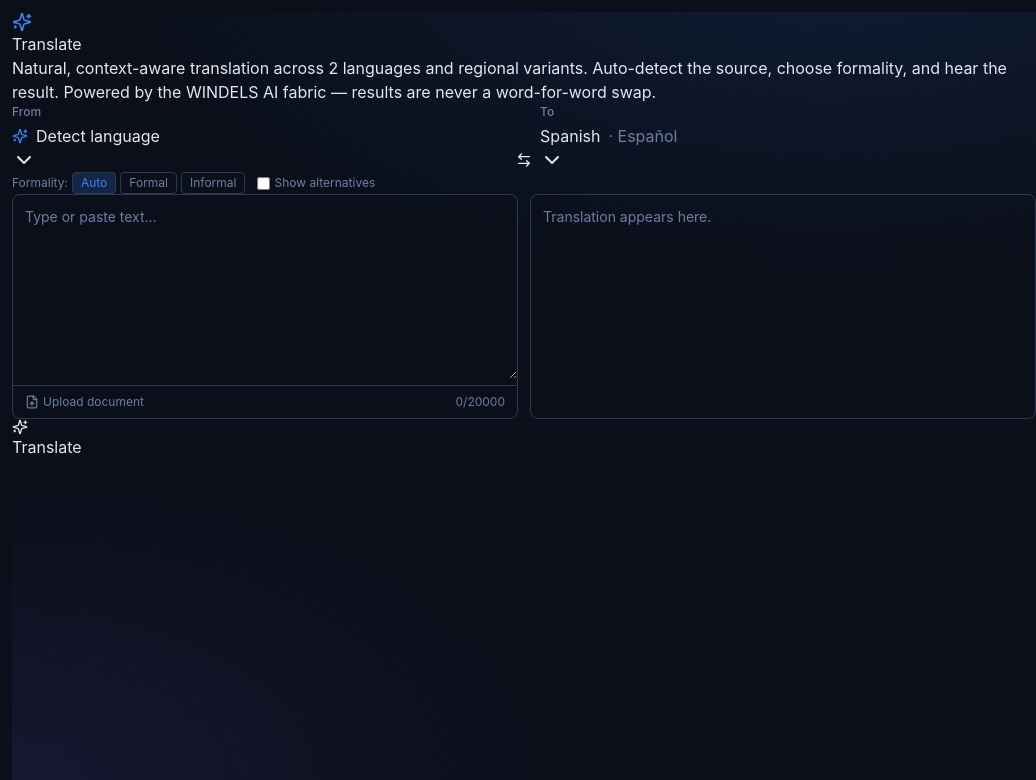
it: TranslateView › flags a DEMO engine result
Step 1. Type "Hello" into the text box with placeholder "Type or paste text…" → [265, 287], box [13,195,517,379]
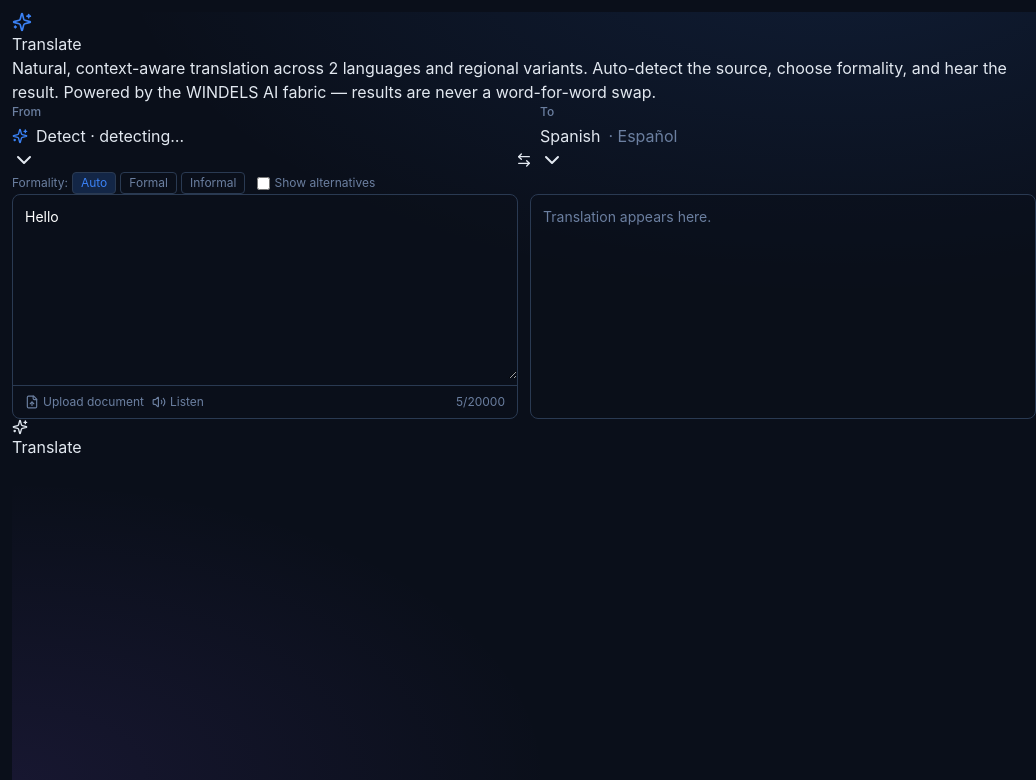
Step 2. Click the button "Translate" → [47, 439], box [12,419,82,459]
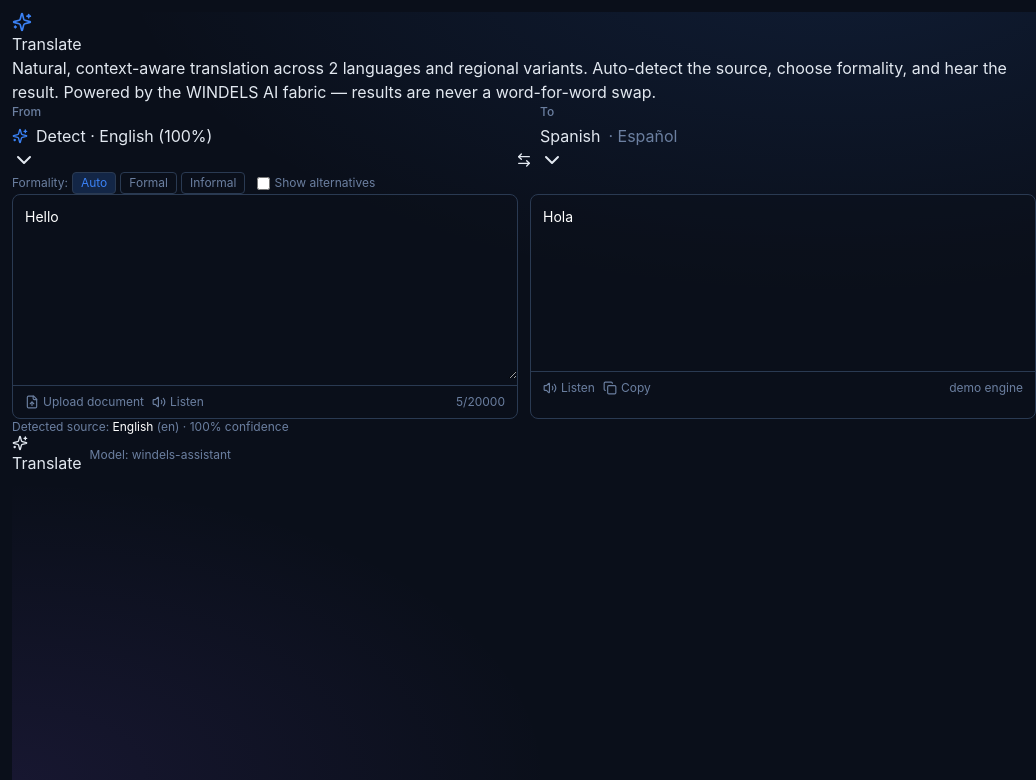
Expected: the text "demo engine" is shown, [949,380,1023,396]
